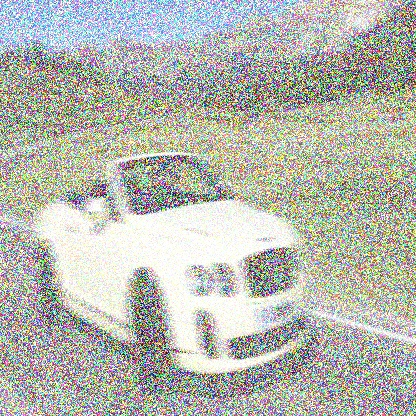Vehicle: (38, 152, 314, 393)
